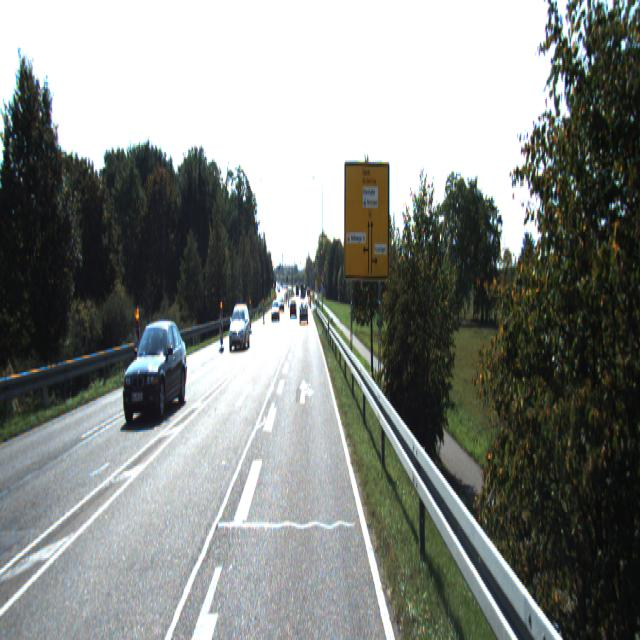Car: (123, 318, 189, 431), (228, 304, 251, 352), (300, 304, 308, 326)
